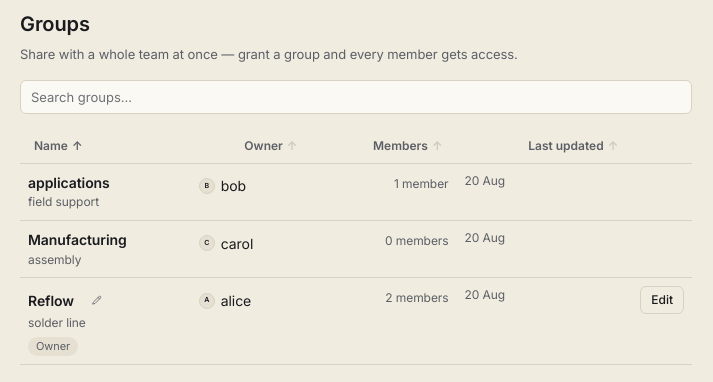
GroupsPage as a table › says nothing matched rather than showing an empty table
The image size is (713, 382).
expect the table is shown: met, box [20,130,692,365]
Type "zzz" into the search field with test id "groups-search".
click(356, 97); type("zzz")  # box [20,80,692,114]
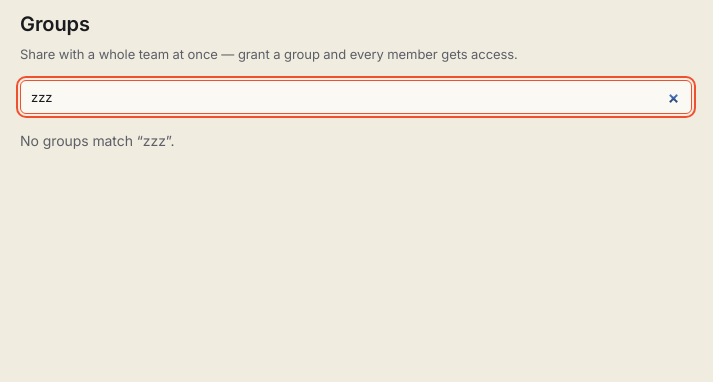
expect the text "No groups match “zzz”." is shown: met, box [20,132,174,149]
